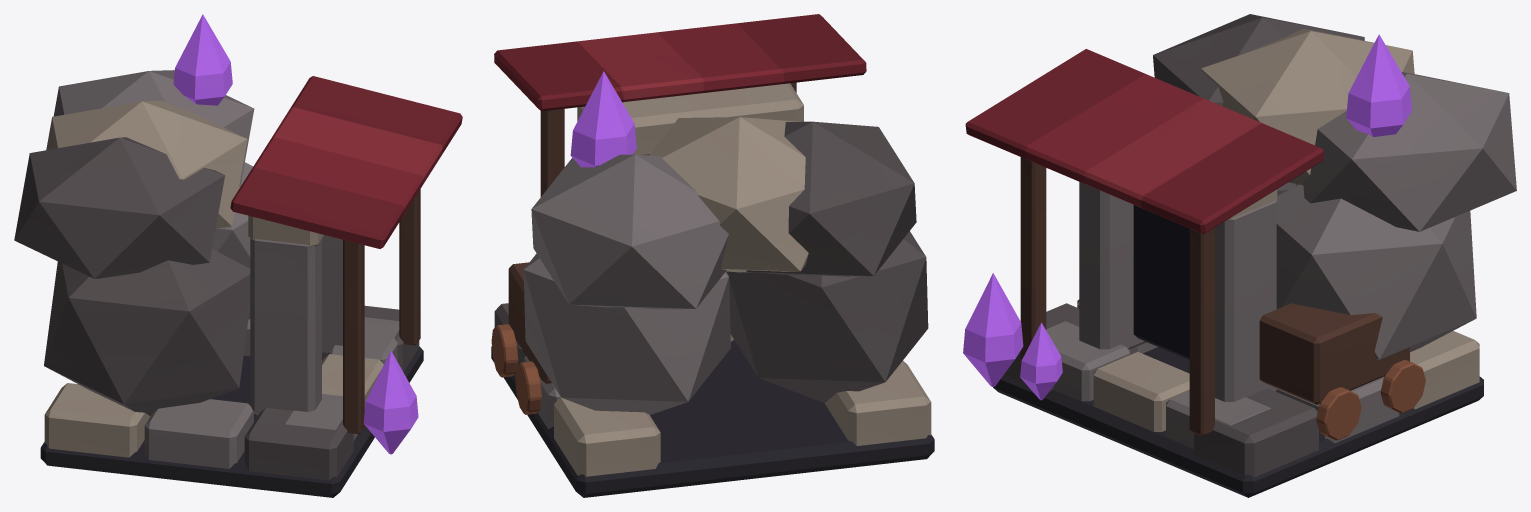
The model's file is building_crystal_mine-llpwiz2S.glb.
3 renders of one model, left to right at view 1: azimuth 30°, elevation 25°; view 2: azimuth 150°, elevation 25°; view 3: azimuth 270°, elevation 25°, orthographic. The views are drawn at different scales.
Parts seen in each view (by area): view 1: building_crystal_mine_l1_body, building_crystal_mine_l1_crystal; view 2: building_crystal_mine_l1_body, building_crystal_mine_l1_crystal; view 3: building_crystal_mine_l1_body, building_crystal_mine_l1_crystal.
Part boxes in pixels (x1,y1,x2,y2): building_crystal_mine_l1_body: (14, 70, 462, 497); building_crystal_mine_l1_crystal: (173, 14, 418, 454); building_crystal_mine_l1_body: (491, 14, 934, 497); building_crystal_mine_l1_crystal: (570, 71, 636, 167); building_crystal_mine_l1_body: (965, 14, 1516, 497); building_crystal_mine_l1_crystal: (963, 34, 1411, 400).
Size of the model in its own units: 0.9083 by 0.74 by 0.9744.
2 materials, 2 textured.
